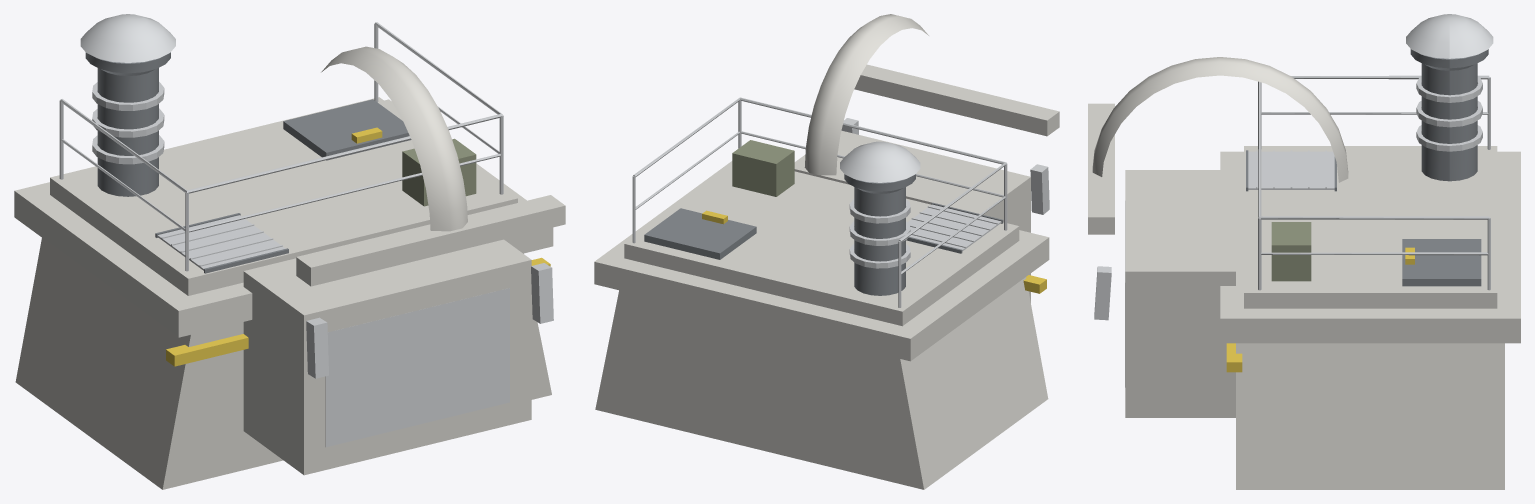
The model's file is cold-war-missile-silo-and-command-bunker-silo-exhaust--eaff7835__15656.glb.
3 views of the same model, side by side, from view 1: azimuth 30°, elevation 25°; view 2: azimuth 150°, elevation 25°; view 3: azimuth 270°, elevation 25° (orthographic). The views are drawn at different scales.
Parts seen in each view (by area): view 1: silo-exhaust-duct, duct-cover; view 2: silo-exhaust-duct, duct-cover; view 3: silo-exhaust-duct, duct-cover.
Boxes of the visible parts, bbox=[...] form: silo-exhaust-duct: bbox=[14, 14, 565, 489]; duct-cover: bbox=[283, 99, 411, 160]; silo-exhaust-duct: bbox=[594, 14, 1059, 489]; duct-cover: bbox=[644, 208, 756, 259]; silo-exhaust-duct: bbox=[1088, 14, 1520, 489]; duct-cover: bbox=[1402, 239, 1481, 286].
Size of the model in its own units: 5.2 by 4.92 by 5.47.
